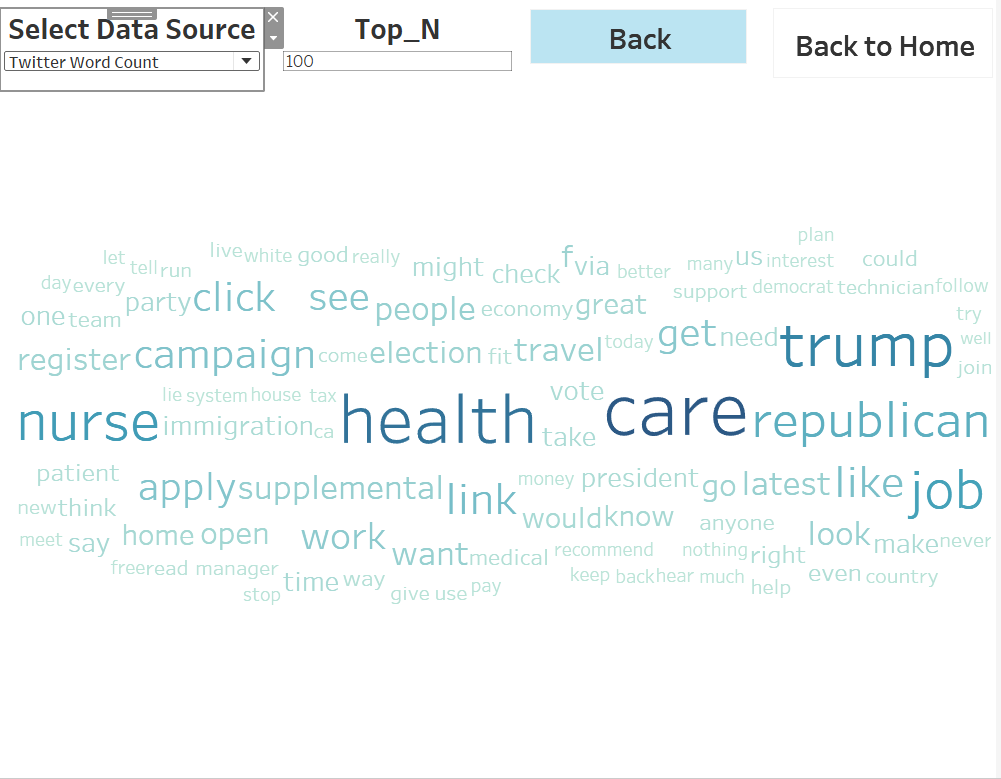

Layout of this report page (visuals, bound fields, positions):
{"tool":"tableau","page":{"name":"big_wcount_dash","canvas":[1000,800],"ordinal":4},"visuals":[{"type":"worksheet","title":"Back","mark":"Automatic","box":[777,9,220,70]},{"type":"parameter","param":"[Parameters].[Parameter 1]","box":[5,10,262,81]},{"type":"parameter","param":"[Parameters].[Parameter 3]","box":[284,10,235,65]},{"type":"worksheet","title":"Back_1","mark":"Automatic","box":[534,10,217,55]},{"type":"worksheet","title":"big_twitter","mark":"Text","box":[18,115,977,662]},{"type":"worksheet","title":"big_ny","mark":"Text","box":[12,126,981,651]},{"type":"worksheet","title":"big_cc","mark":"Text","box":[14,152,982,624]}]}

Visuals, with their boxes in screenshot pixels (x1, y1, x2, y2), scaled from the page's 1000x800 canvas onto the 1001x779 screenshot:
"Back" worksheet: region(778, 9, 998, 77)
parameter: region(5, 10, 267, 89)
parameter: region(284, 10, 520, 73)
"Back_1" worksheet: region(535, 10, 752, 63)
"big_twitter" worksheet (Text marks): region(18, 112, 996, 757)
"big_ny" worksheet (Text marks): region(12, 123, 994, 757)
"big_cc" worksheet (Text marks): region(14, 148, 997, 756)
